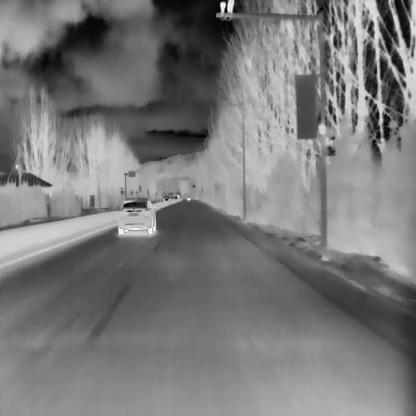car: (117, 197, 156, 234)
